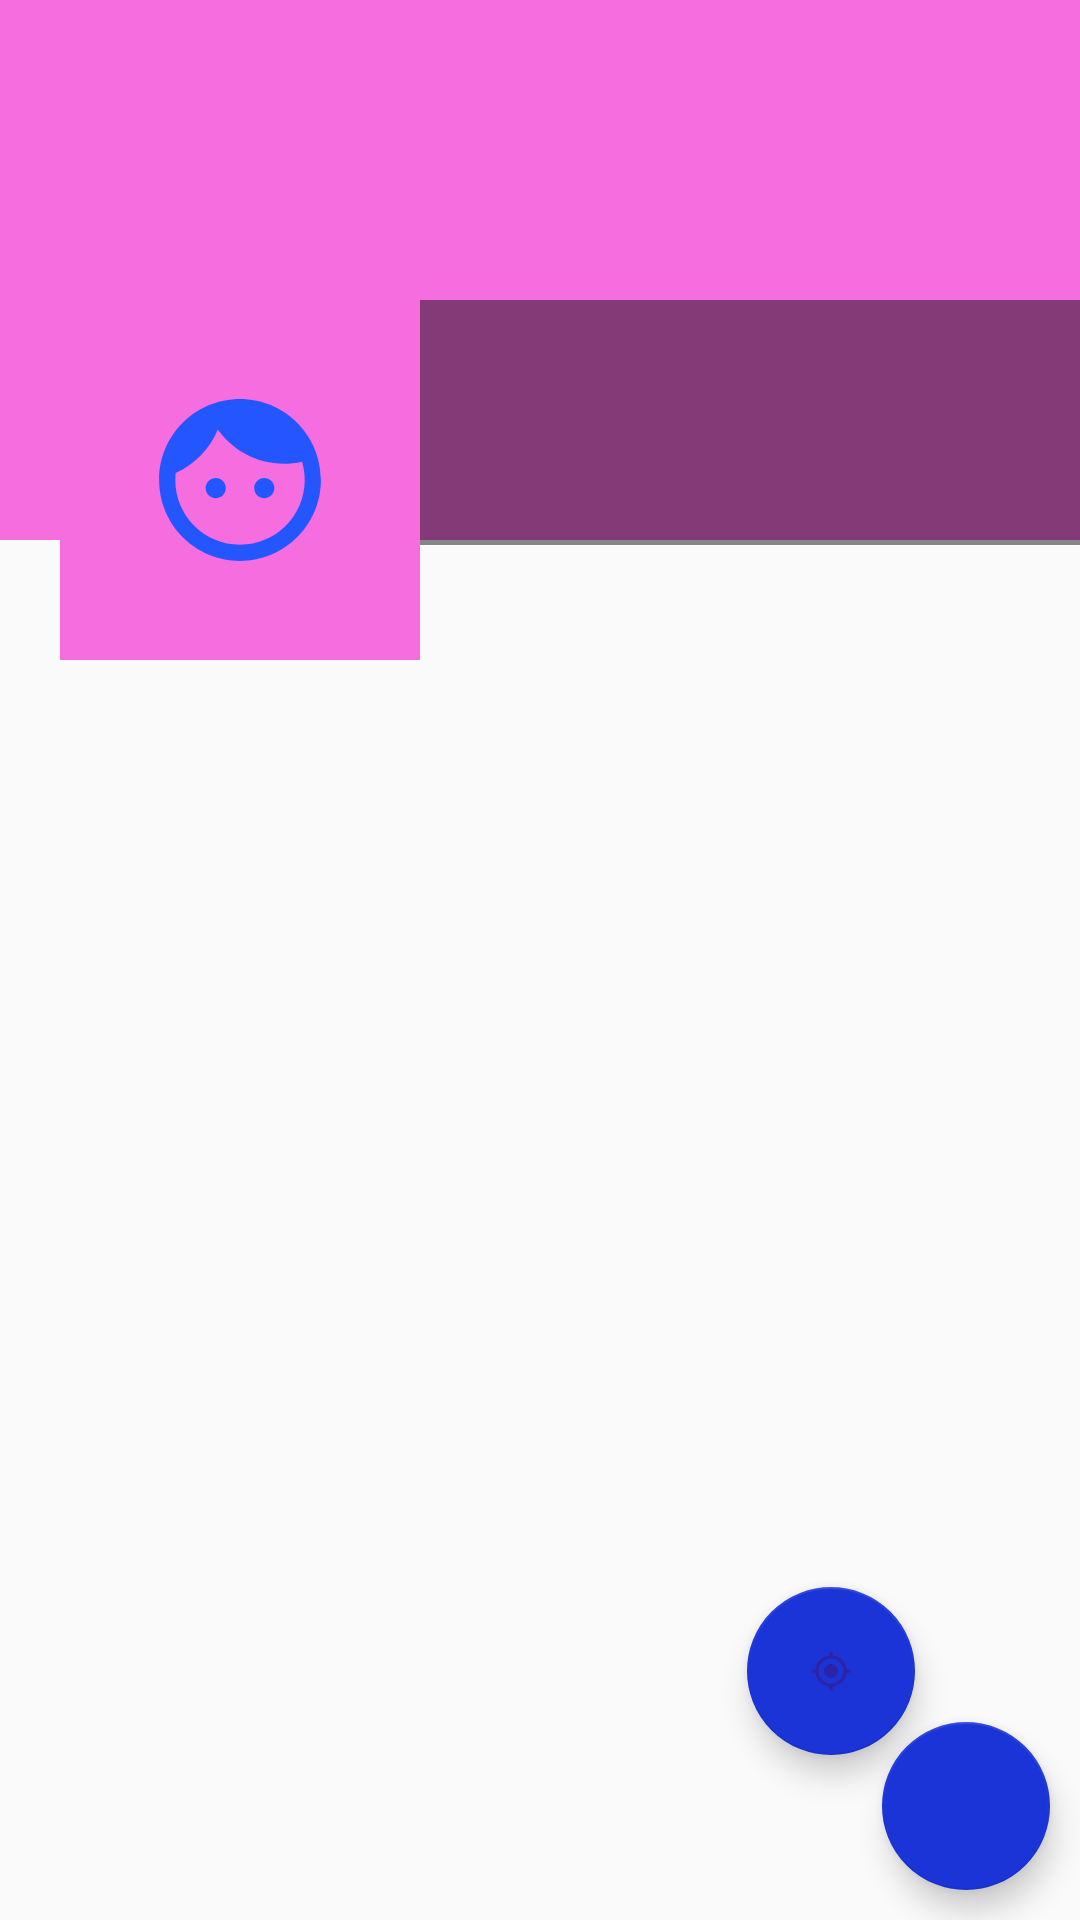

Where to tap for icons on this 1080w x 1920h app screen, as point (x, y):
location: point (831, 1671)
